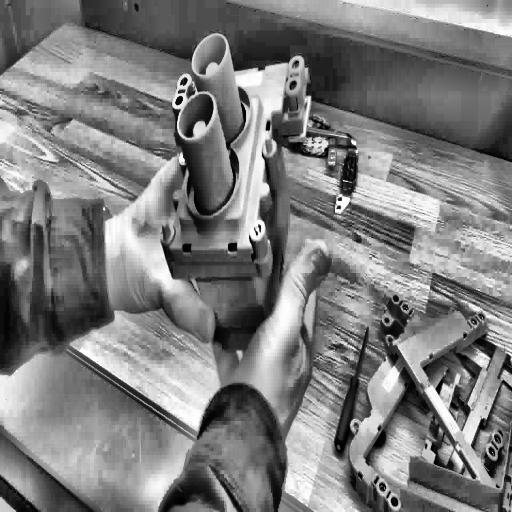connector: (158, 20, 321, 362)
